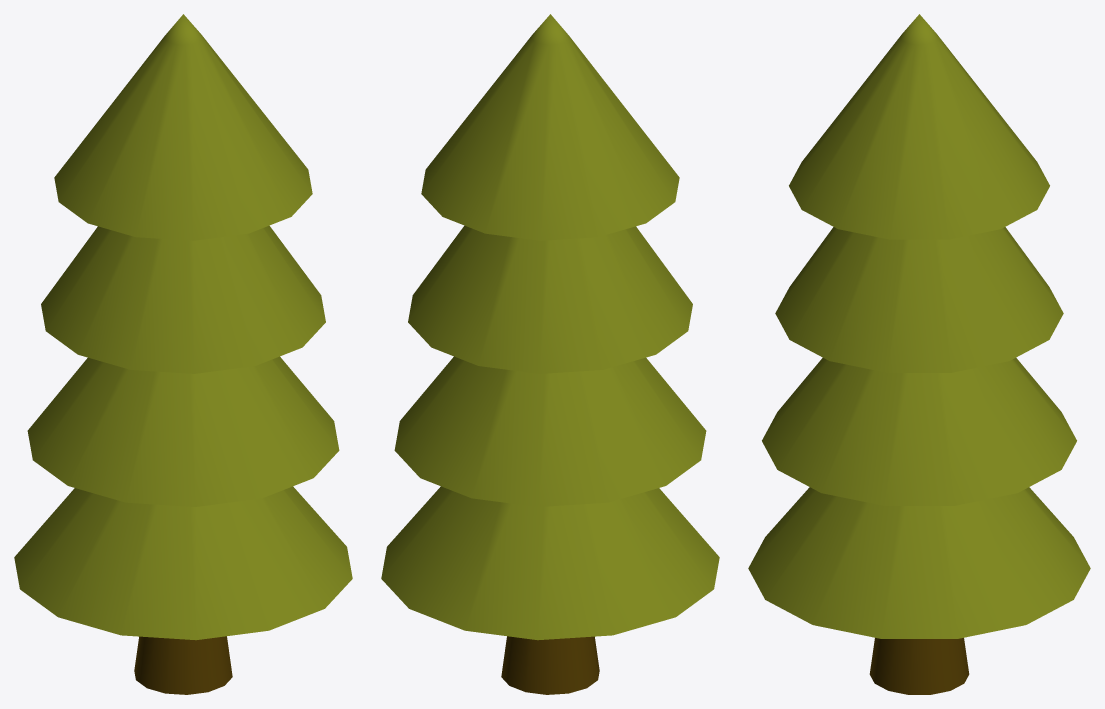
File: Small_Tree3.fbx
3 renders of one model, left to right at view 1: azimuth 30°, elevation 25°; view 2: azimuth 150°, elevation 25°; view 3: azimuth 270°, elevation 25°, orthographic.
Parts seen in each view (by area): view 1: Small_Tree.003; view 2: Small_Tree.003; view 3: Small_Tree.003.
Part boxes in pixels (x1,y1,x2,y2): Small_Tree.003: [14, 14, 352, 694]; Small_Tree.003: [381, 14, 719, 694]; Small_Tree.003: [748, 14, 1090, 694].
Size of the model in its own units: 143 by 311 by 146.
